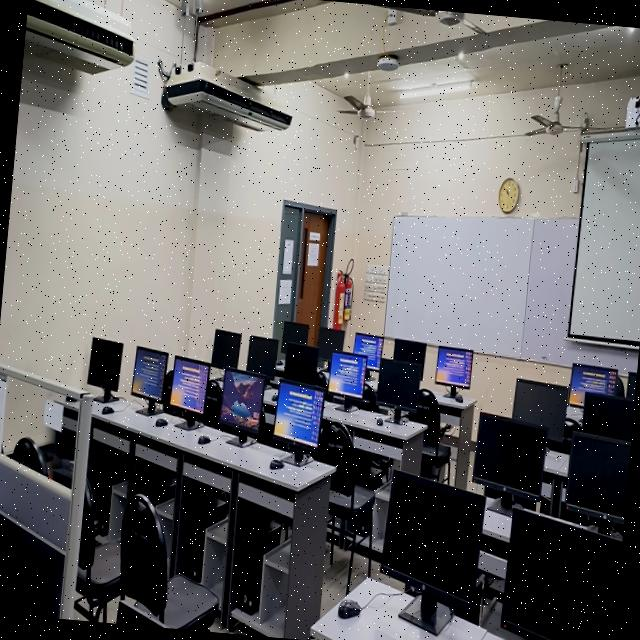Ac: (156, 59, 291, 129), (23, 0, 134, 73)
Chair: (119, 493, 217, 632), (317, 420, 373, 589), (74, 478, 121, 622), (416, 388, 449, 476), (8, 436, 46, 474)
Cpu: (235, 498, 280, 612), (183, 497, 227, 580), (90, 442, 127, 534), (91, 442, 127, 525), (132, 458, 173, 504), (202, 485, 219, 497)
Fire Extinguisher: (332, 257, 352, 326), (331, 269, 344, 327)
Light: (397, 79, 472, 97), (626, 26, 634, 31)
Monitor: (380, 470, 484, 633), (500, 507, 622, 640), (472, 411, 546, 514), (564, 431, 631, 528), (511, 377, 568, 440), (273, 380, 323, 447), (219, 368, 264, 432), (581, 391, 634, 440), (130, 344, 167, 412), (375, 358, 419, 412), (86, 336, 122, 401), (567, 361, 616, 406), (169, 356, 208, 412), (327, 351, 366, 397), (114, 600, 172, 628), (434, 345, 472, 387), (282, 341, 317, 383), (245, 333, 277, 378), (391, 338, 425, 378), (210, 328, 240, 367), (352, 331, 382, 369), (316, 325, 344, 358), (280, 320, 308, 352), (625, 371, 637, 399)
Mouse: (336, 597, 360, 617), (269, 458, 282, 468), (197, 434, 210, 443), (154, 416, 167, 424), (100, 405, 113, 412), (454, 392, 462, 402), (375, 416, 382, 424)
Projector: (624, 92, 640, 126)
